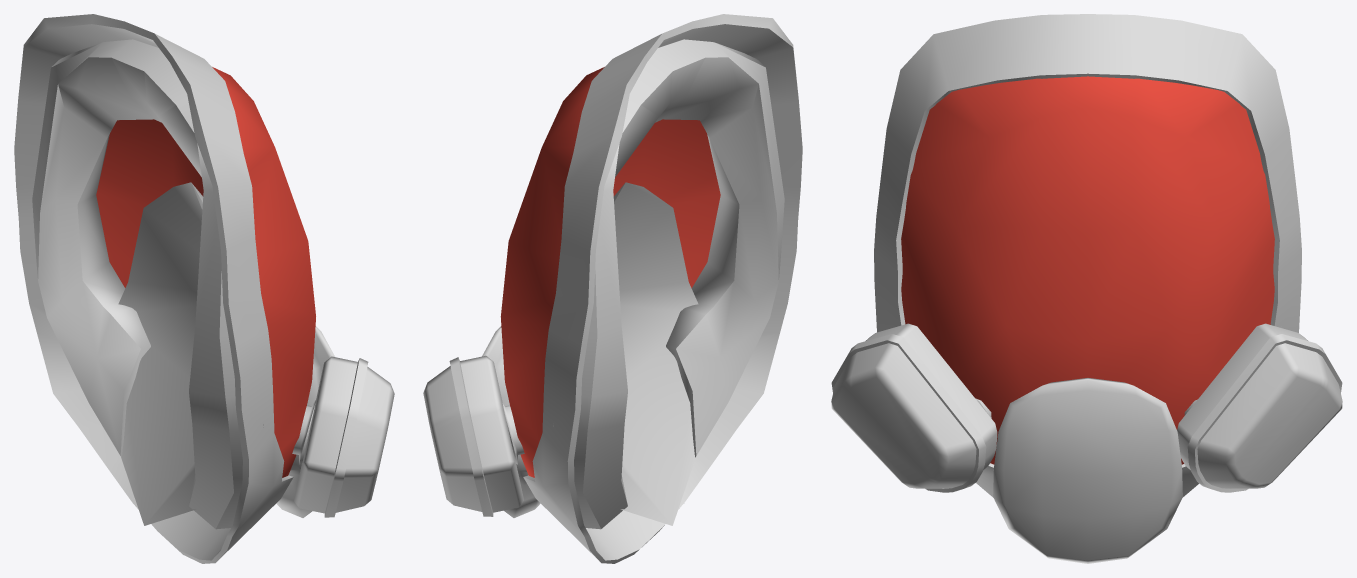
The model's file is haz_mask.glb.
3 renders of one model, left to right at view 1: azimuth 30°, elevation 25°; view 2: azimuth 150°, elevation 25°; view 3: azimuth 270°, elevation 25°, orthographic. The views are drawn at different scales.
Visible parts, largest first — view 1: polySurface38.001; view 2: polySurface38.001; view 3: polySurface38.001.
Boxes of the visible parts, x1,y1,x2,y2 form: polySurface38.001: [14, 14, 394, 563]; polySurface38.001: [423, 14, 802, 563]; polySurface38.001: [831, 14, 1342, 563].
Size of the model in its own units: 2.82 by 7.17 by 6.51.
